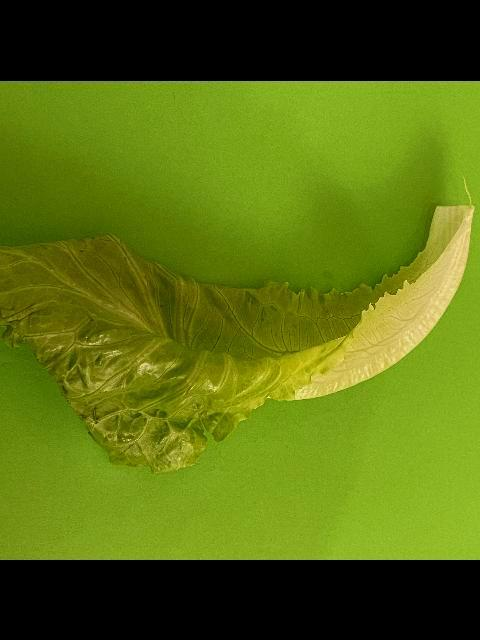lettuce: (0, 204, 474, 476)
